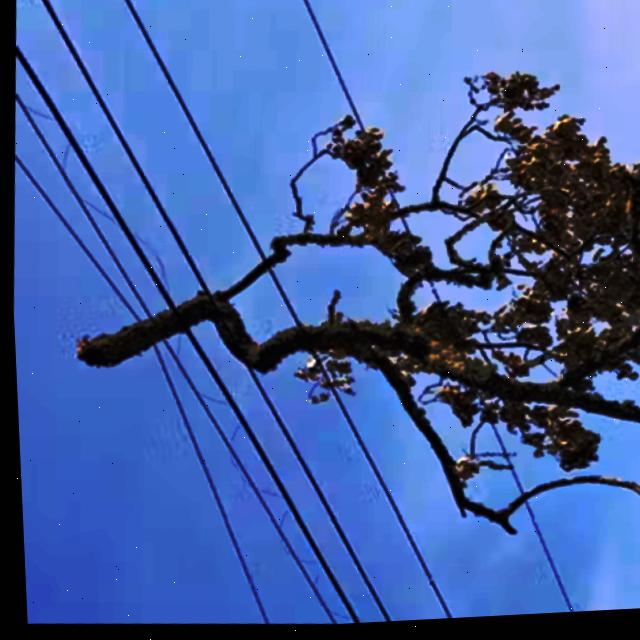obstruction: (62, 106, 640, 481)
wires: (16, 0, 350, 135), (220, 450, 416, 631)
